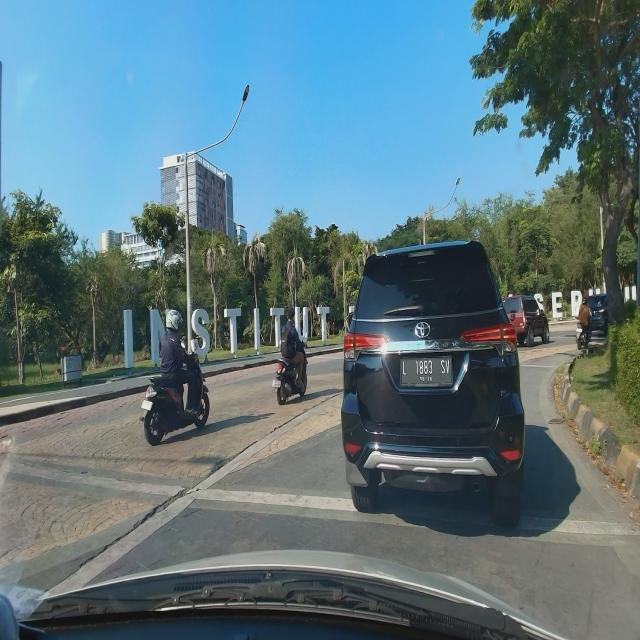car: (338, 239, 527, 535)
license-plate: (400, 356, 453, 386)
